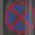No Stopping: (2, 0, 34, 33)
